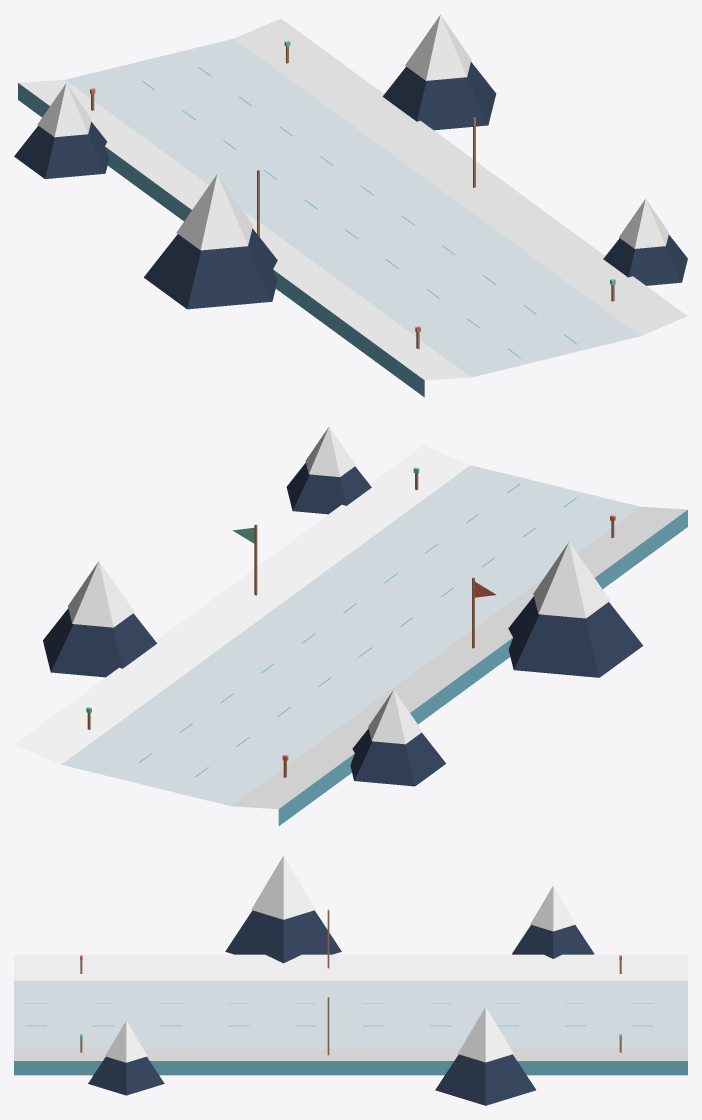
File: summit.glb
3 views of the same model, one above another, from view 1: azimuth 30°, elevation 25°; view 2: azimuth 150°, elevation 25°; view 3: azimuth 270°, elevation 25° (orthographic). The views are drawn at different scales.
Parts seen in each view (by area): view 1: Tile_summit; view 2: Tile_summit; view 3: Tile_summit.
Boxes of the visible parts, x1,y1,x2,y2 form: Tile_summit: (14, 14, 687, 397); Tile_summit: (14, 427, 687, 825); Tile_summit: (14, 855, 687, 1105).
Bounding box in the file's own units: 19.29 × 4.7 × 30.
